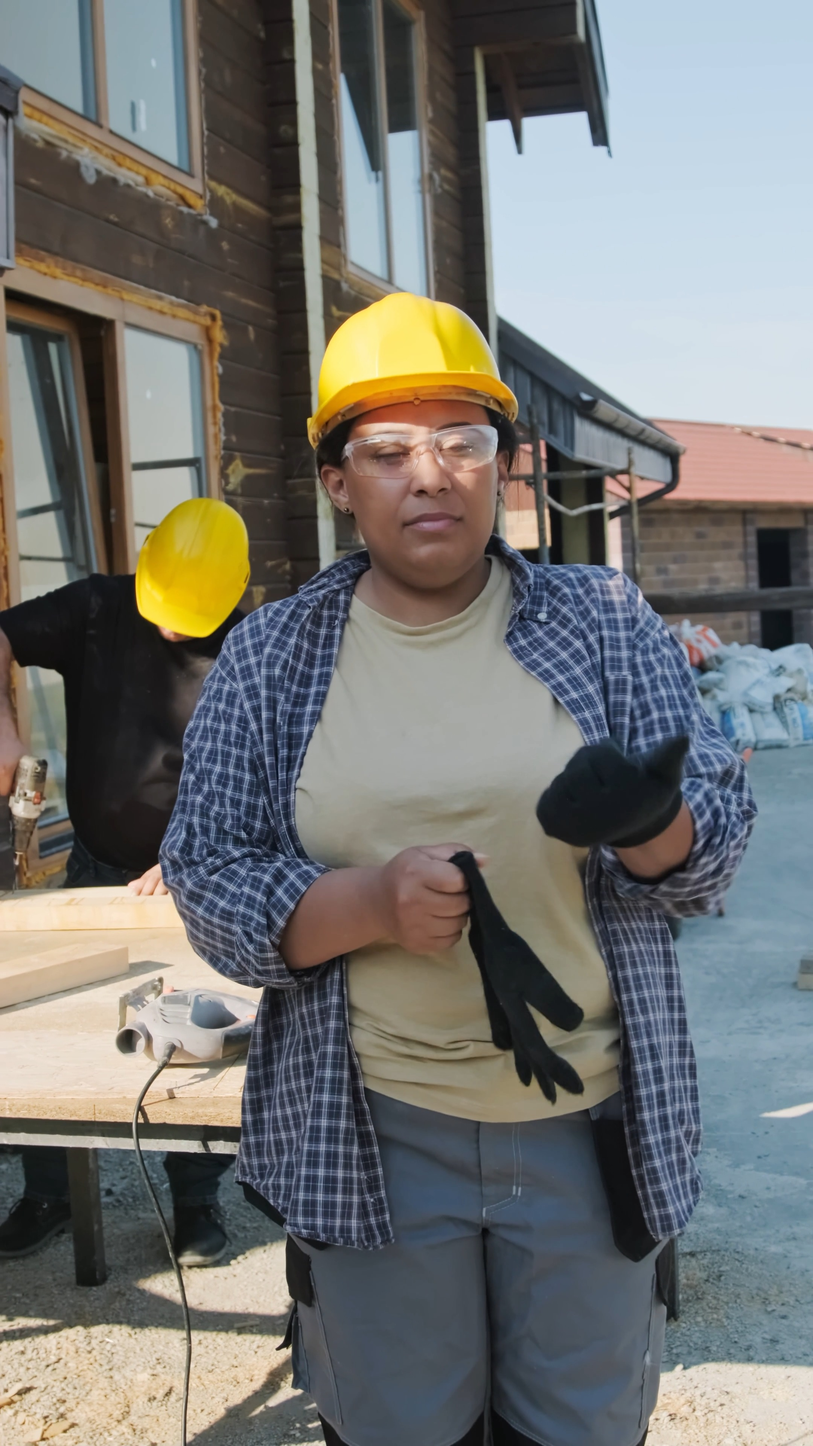No-gloves: (369, 832, 484, 1002)
gloves: (525, 704, 732, 900)
